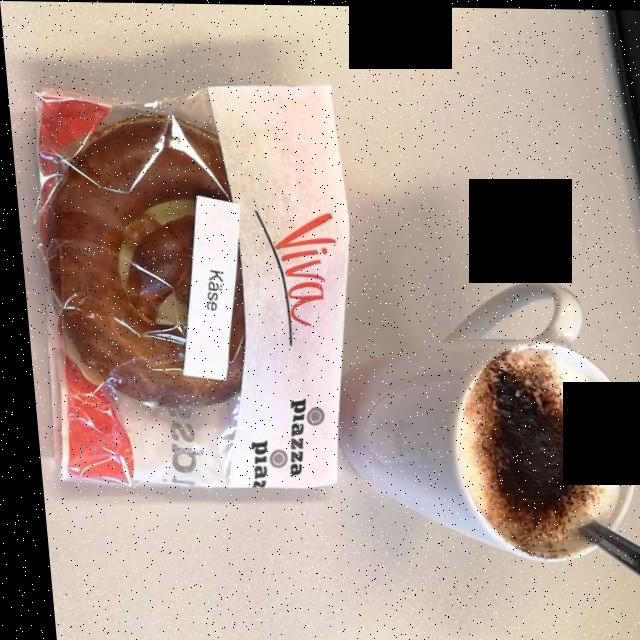cappuccino: (459, 354, 601, 550)
